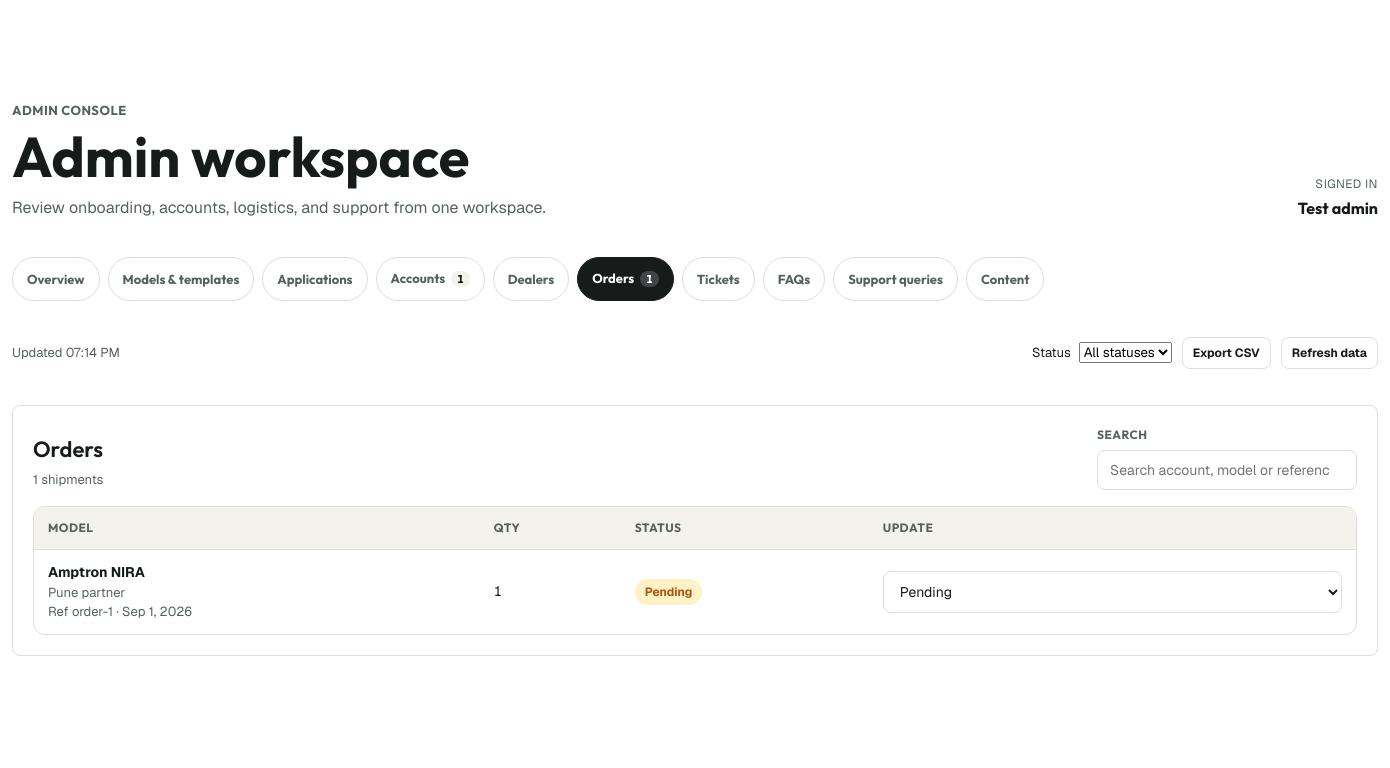
Scenario: shows counts only after successful loading and keeps order account names searchable
Expected: the text "Pune partner" is shown, [48,584,125,600]
Expected: the tab "Orders 1" is shown, [577,256,674,300]
Type "Pune partner" into the search field labelled "Search". click: [1227, 470]
box: [1097,450,1357,490]
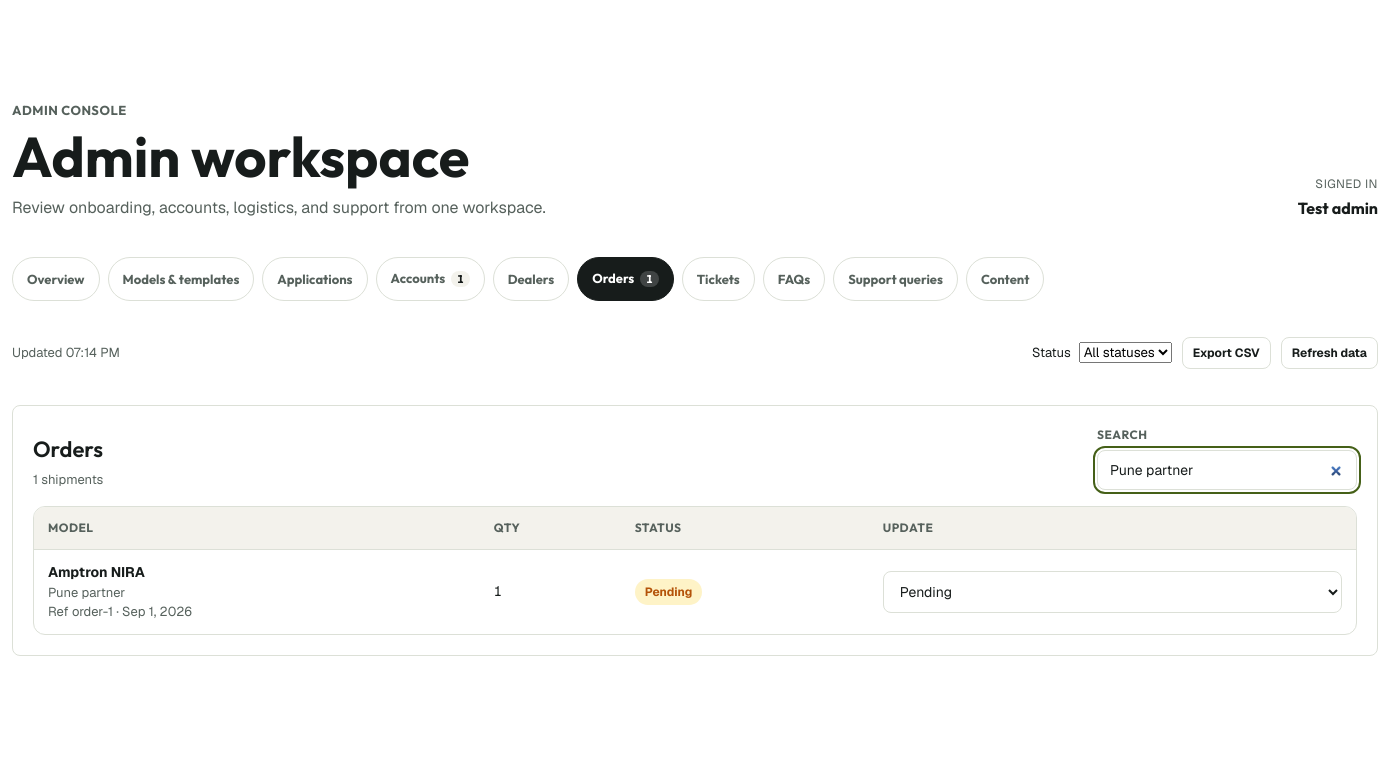
Expected: the text "Amptron NIRA" is shown, [48,562,145,580]
Click the tab "Tickets". click: [718, 278]
box: [682,256,755,300]
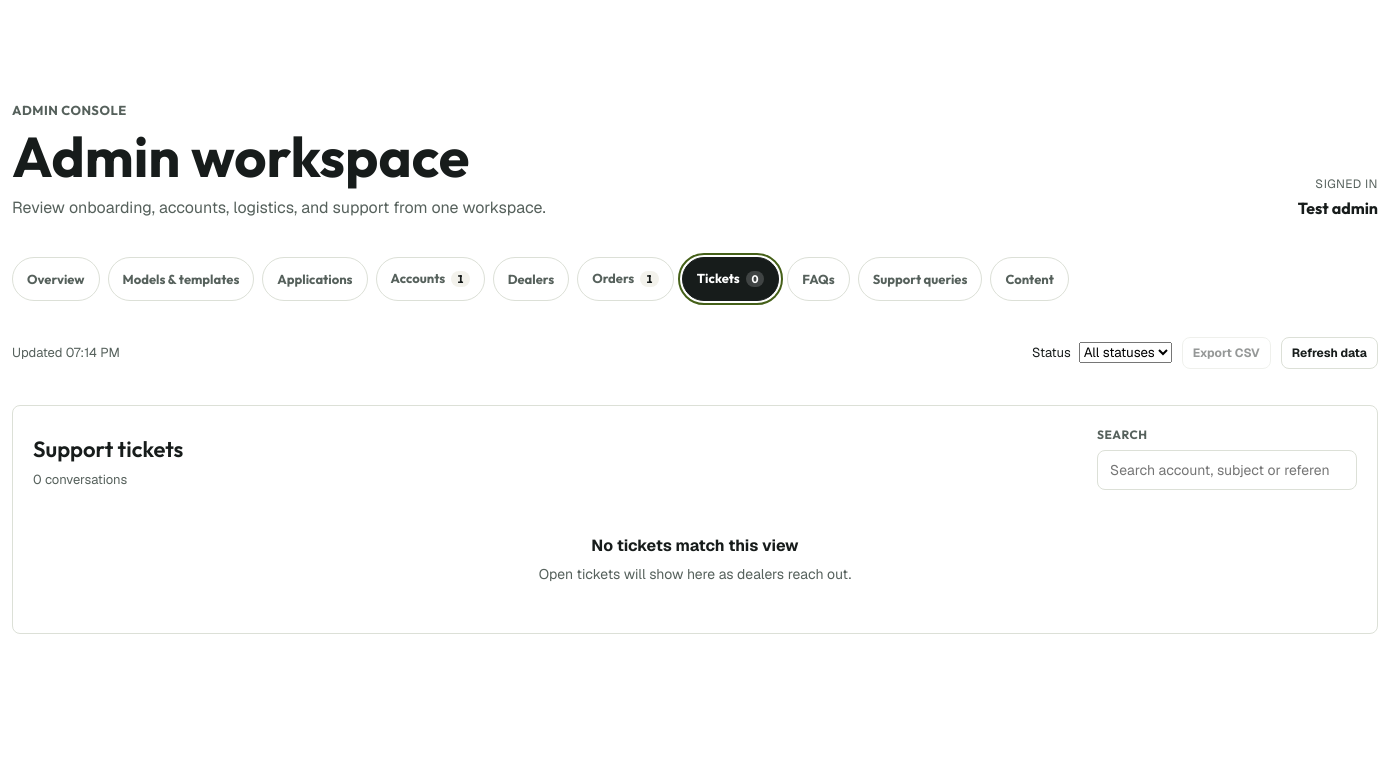
Expected: the tab "Tickets 0" is shown, [682,256,779,300]
